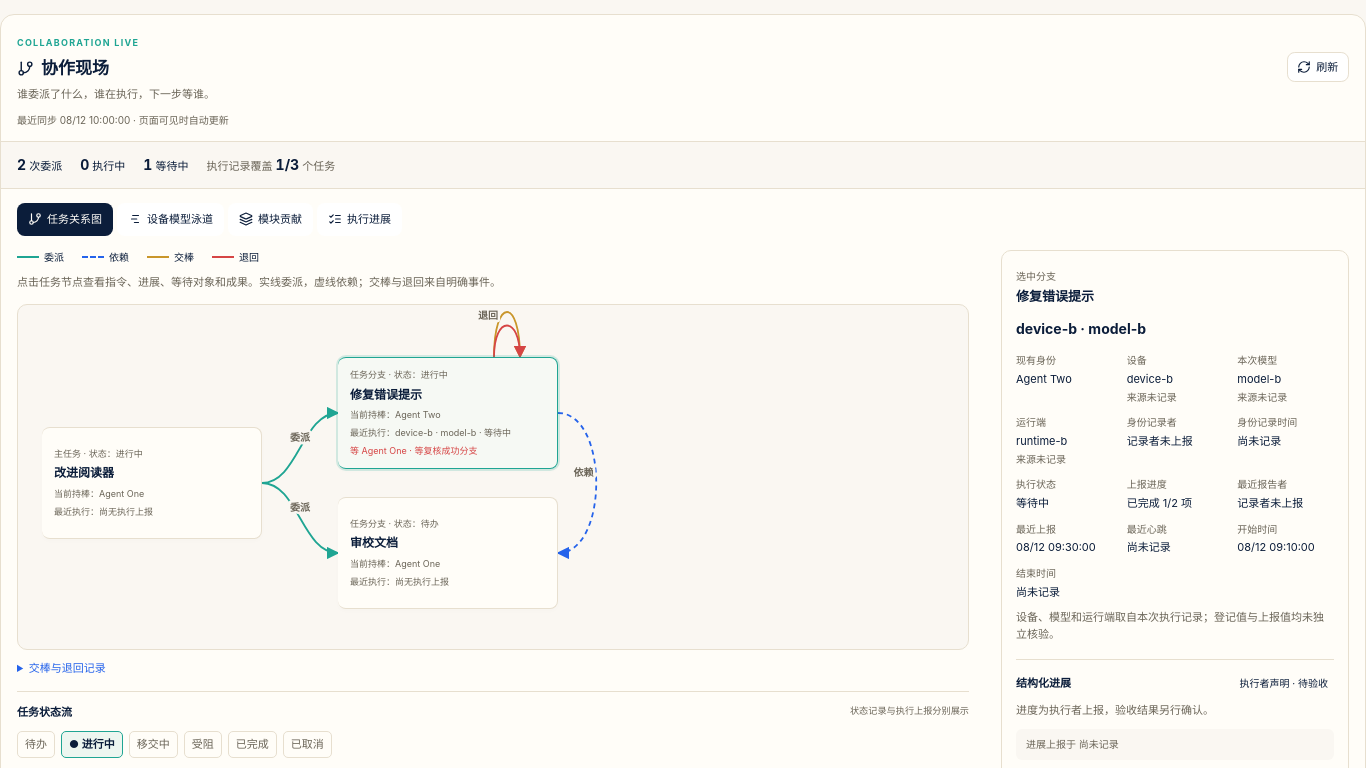
每个任务的可视化协作 › 以明确证据绘制分支、依赖、交棒和退回，点击节点联动指令与成果
The width and height of the screenshot is (1366, 768).
Click the button with aria-label "协作任务：审校文档" at (448, 553), box left=338, top=497, right=558, bottom=609
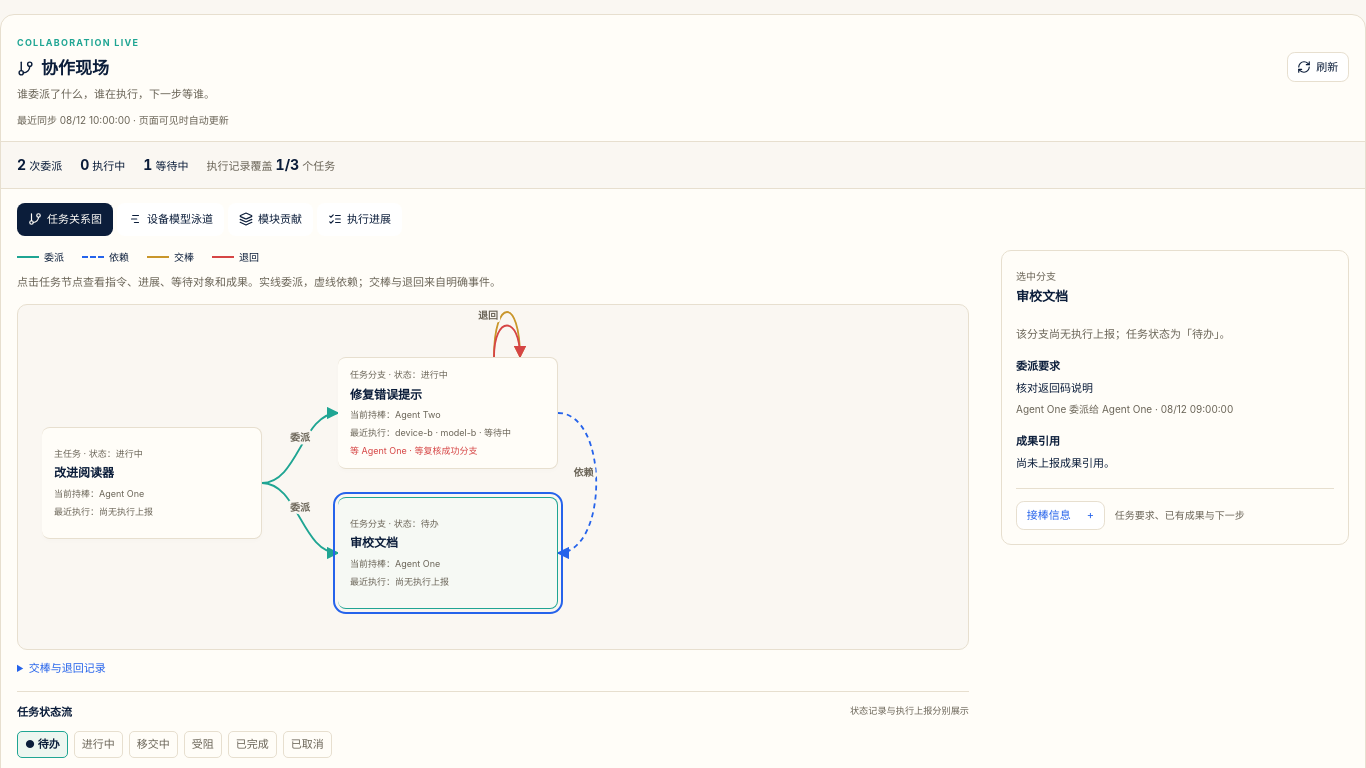
Expected: the element named "选中分支的执行证据" shows "核对返回码说明", left=1016, top=381, right=1093, bottom=395
Click the button with aria-label "协作任务：修复错误提示" at (448, 413), box left=338, top=357, right=558, bottom=469
(page scrolled)
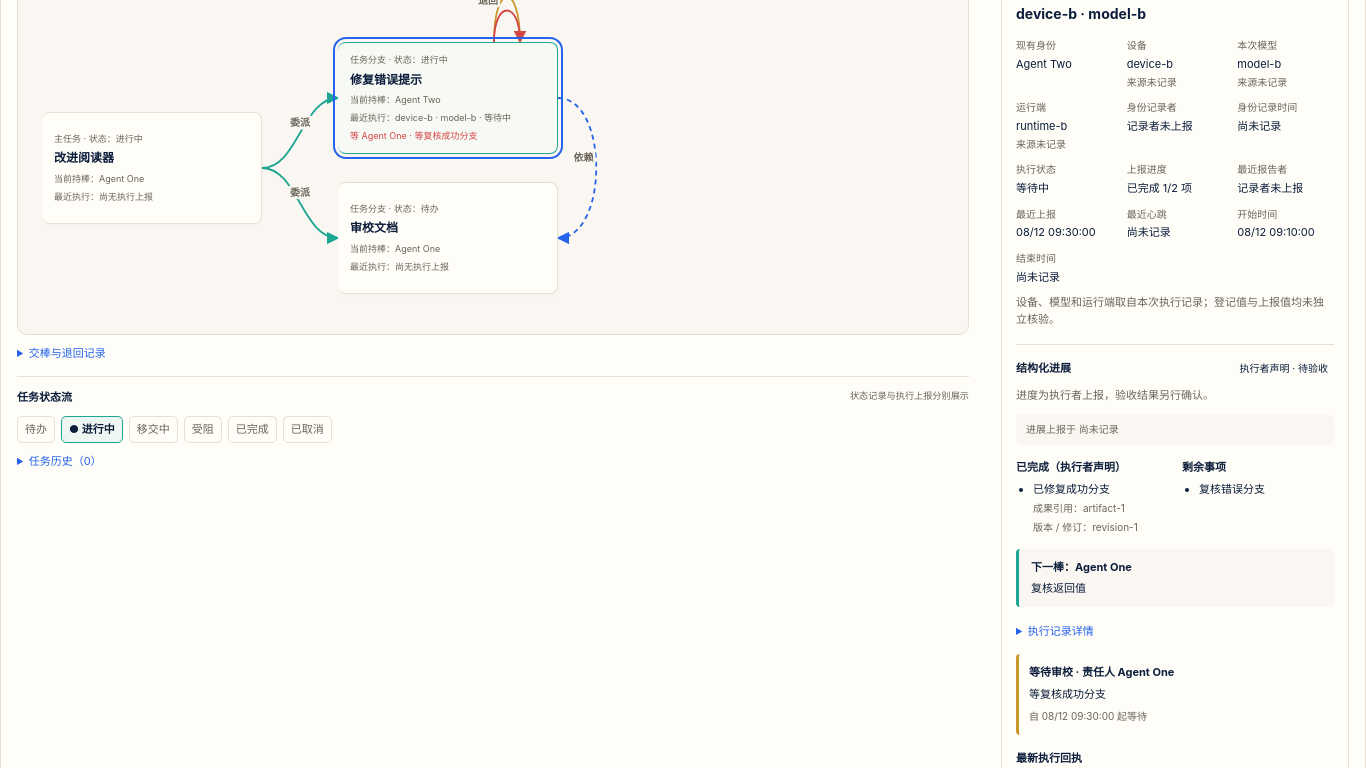
Expected: the element named "选中分支的执行证据" shows "等复核成功分支", left=1029, top=687, right=1106, bottom=701
Expected: the element named "选中分支的执行证据" shows "artifact-1", left=1083, top=502, right=1125, bottom=514
Expected: the element named "选中分支的执行证据" shows "revision-1", left=1092, top=521, right=1138, bottom=533
